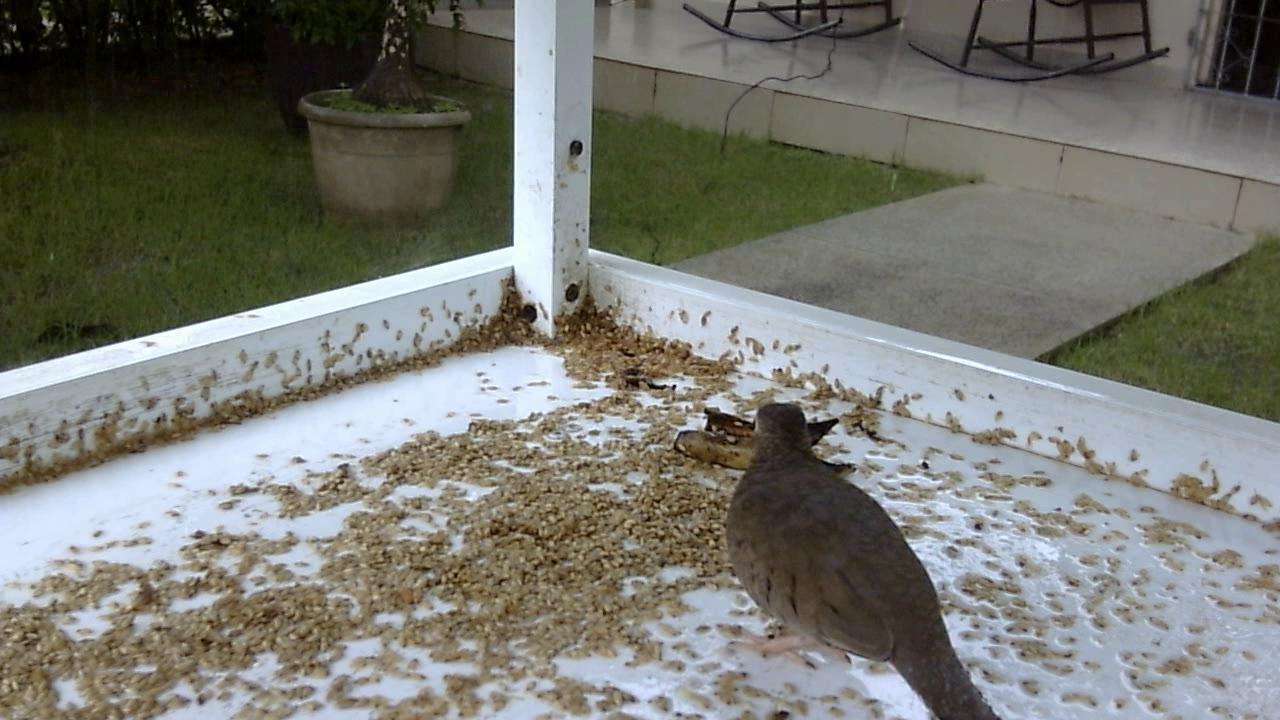rolinha: (701, 401, 1010, 720)
